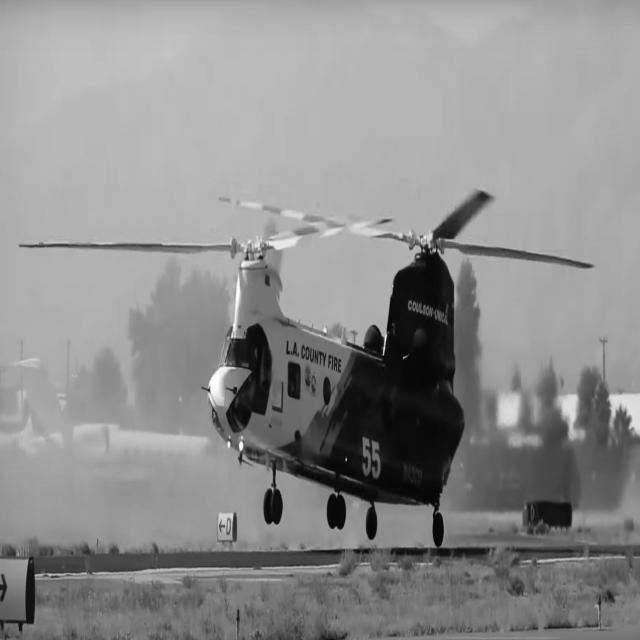Helicopter: (27, 191, 589, 542)
